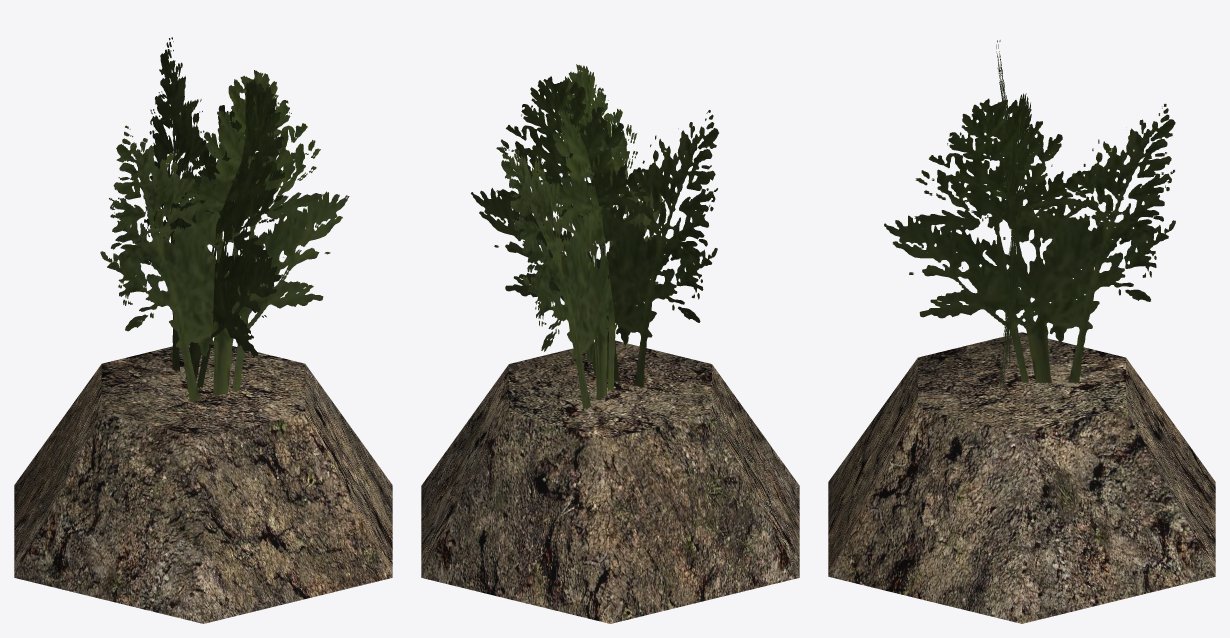
The model's file is GS_NATURE_BEET_01_GALI.glb.
The picture shows the model from 3 angles, left to right: view 1: azimuth 30°, elevation 25°; view 2: azimuth 150°, elevation 25°; view 3: azimuth 270°, elevation 25°; orthographic projection. The views are drawn at different scales.
Parts seen in each view (by area): view 1: Mesh; view 2: Mesh; view 3: Mesh.
Boxes of the visible parts, x1,y1,x2,y2 form: Mesh: (14,37,392,623); Mesh: (421,64,799,623); Mesh: (828,40,1215,623).
Bounding box in the file's own units: 0.6463 × 0.7264 × 0.5597.
Materials: 2 (2 with a texture image).
